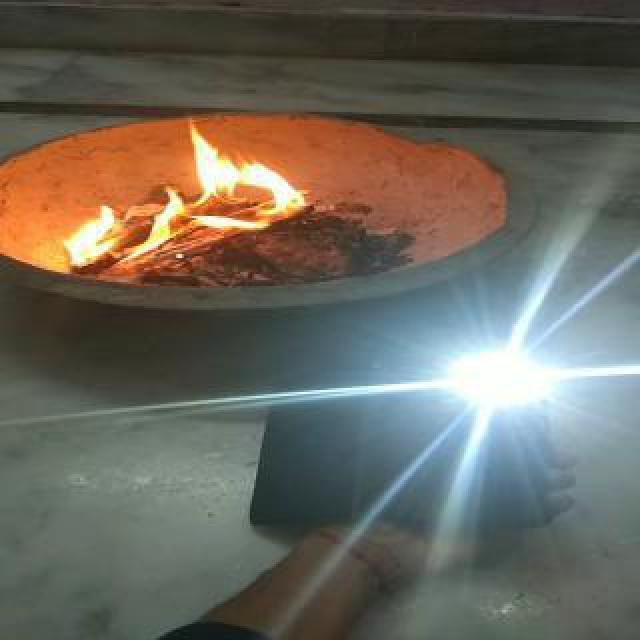Fire: (54, 138, 314, 276)
